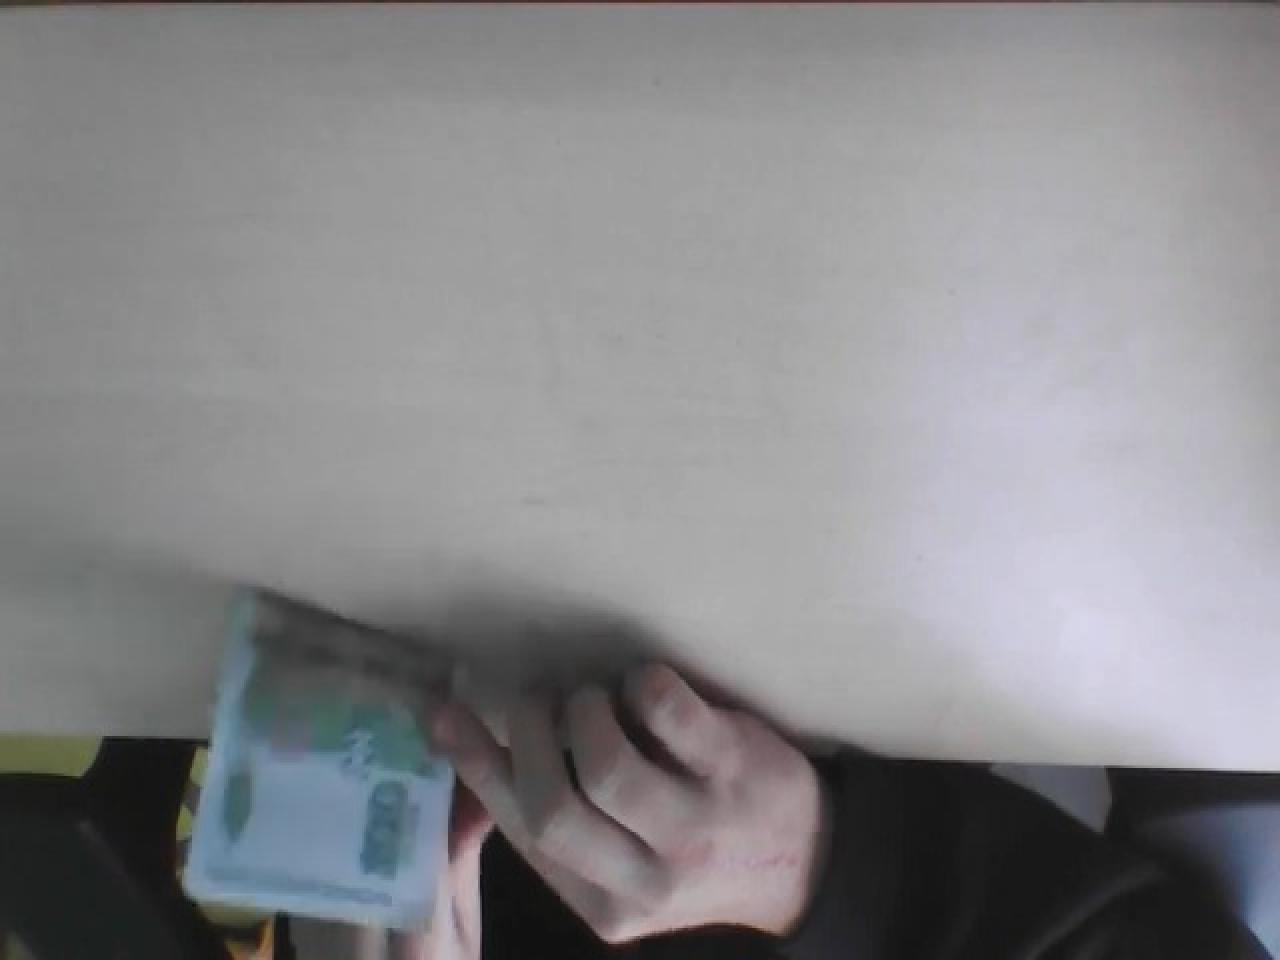100leva: (182, 592, 460, 939)
